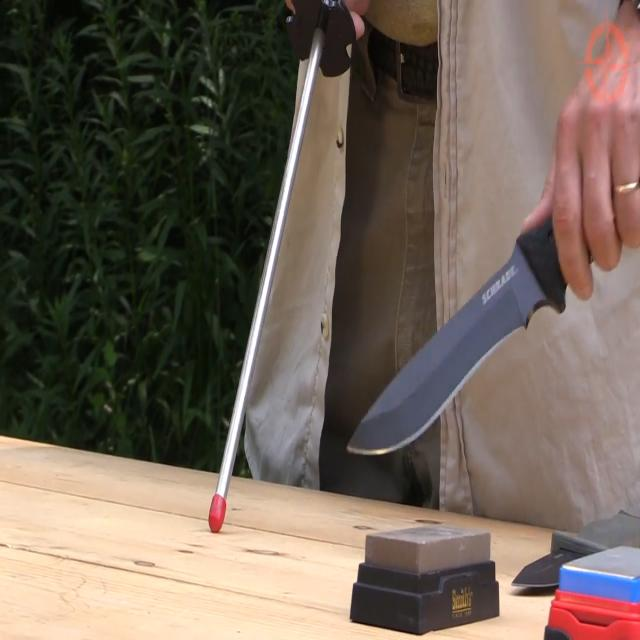knife: (336, 229, 554, 486)
